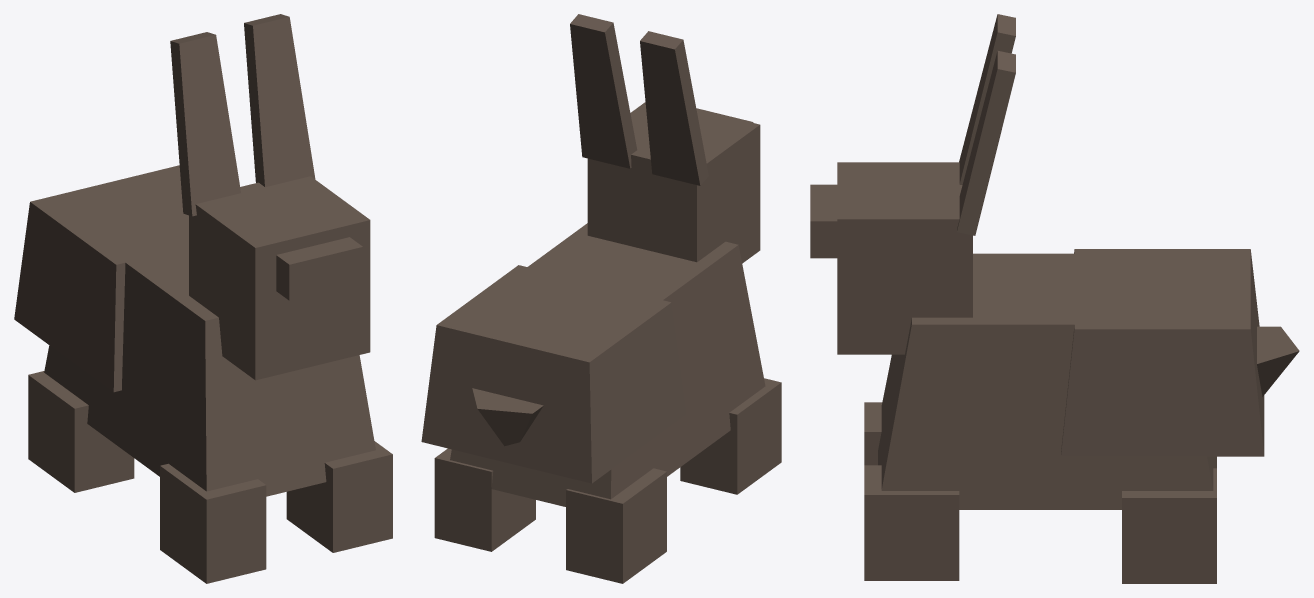
The model's file is rabbit.fbx.
3 renders of one model, left to right at view 1: azimuth 30°, elevation 25°; view 2: azimuth 150°, elevation 25°; view 3: azimuth 270°, elevation 25°, orthographic. The views are drawn at different scales.
Visible parts, largest first — view 1: Rabbit; view 2: Rabbit; view 3: Rabbit.
Part boxes in pixels (x1,y1,x2,y2): Rabbit: (14, 14, 392, 583); Rabbit: (421, 14, 781, 583); Rabbit: (810, 14, 1299, 583).
Bounding box in the file's own units: 0.172 × 0.4016 × 0.3611.
